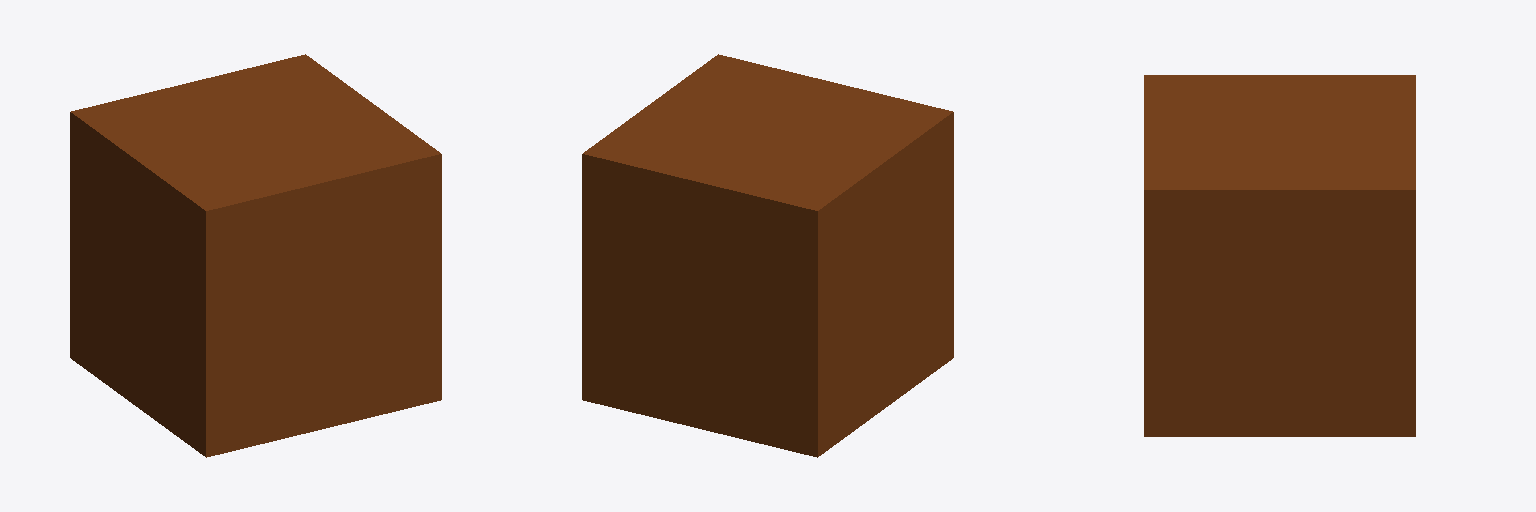
File: oak_cube.obj
3 views of the same model, side by side, from view 1: azimuth 30°, elevation 25°; view 2: azimuth 150°, elevation 25°; view 3: azimuth 270°, elevation 25° (orthographic).
Visible parts, largest first — view 1: oak_cube; view 2: oak_cube; view 3: oak_cube.
Part boxes in pixels (x1,y1,x2,y2): oak_cube: (70, 54, 441, 457); oak_cube: (582, 54, 953, 457); oak_cube: (1144, 75, 1415, 436).
Bounding box in the file's own units: 0.2 × 0.2 × 0.2.